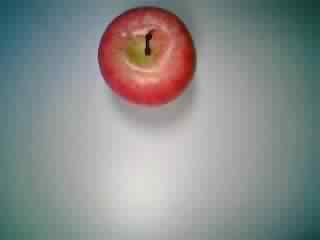apple: (95, 6, 199, 107)
